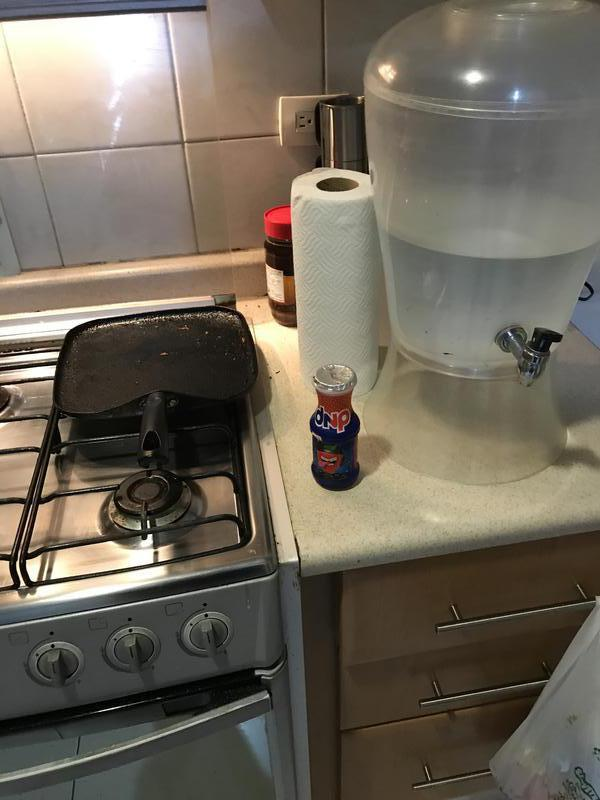danup: (306, 362, 362, 492)
